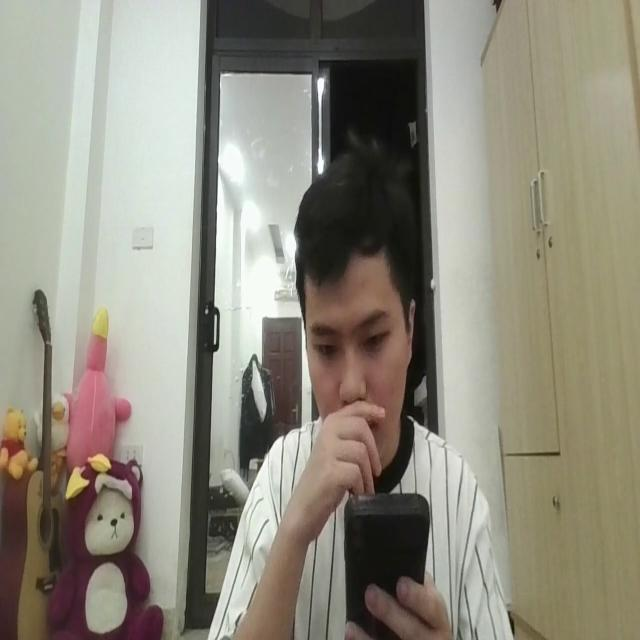phone: (343, 477, 433, 640)
student: (218, 135, 520, 640)
